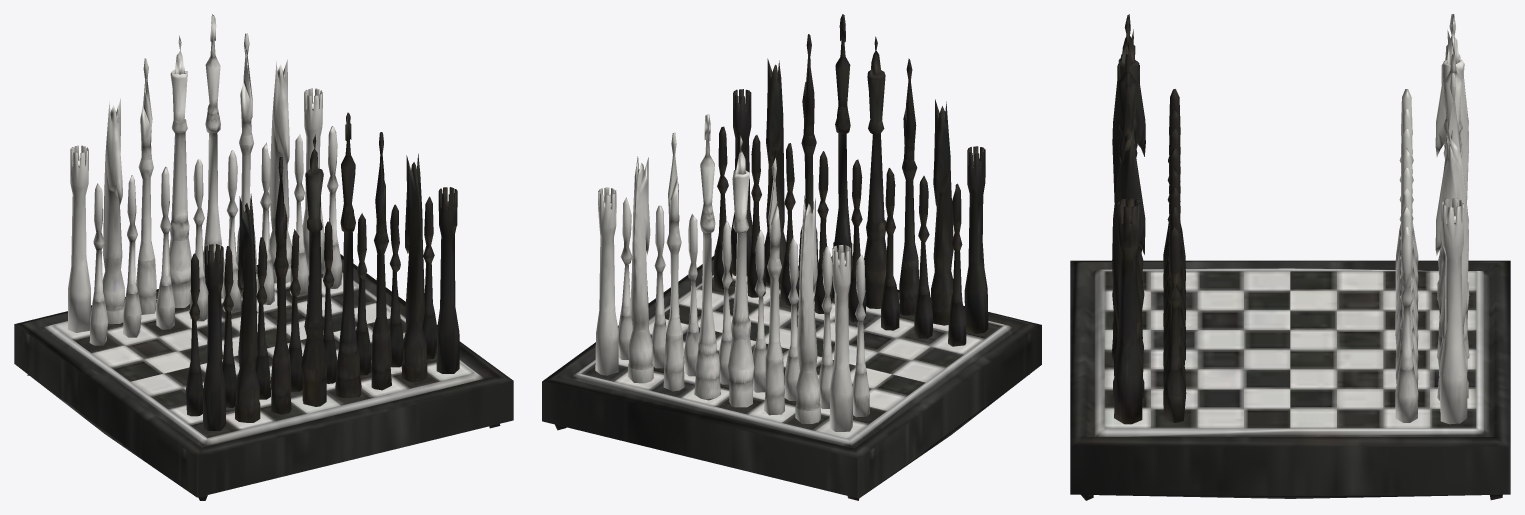
Rendered from ph-chess-set.glb.
3 views of the same model, side by side, from view 1: azimuth 30°, elevation 25°; view 2: azimuth 150°, elevation 25°; view 3: azimuth 270°, elevation 25° (orthographic). The views are drawn at different scales.
Visible parts, largest first — view 1: board, piece_rook_black_01, piece_rook_white_01, piece_king_black, piece_king_white; view 2: board, piece_rook_white_01, piece_rook_black_01, piece_king_white, piece_king_black; view 3: board, piece_rook_white_01, piece_rook_black_01, piece_king_black, piece_king_white.
Part boxes in pixels (<box>): board: <box>14,254,513,500</box>; piece_rook_black_01: <box>185,132,459,430</box>; piece_rook_white_01: <box>68,33,341,345</box>; piece_king_black: <box>335,112,361,398</box>; piece_king_white: <box>203,14,225,298</box>; board: <box>542,256,1041,500</box>; piece_rook_white_01: <box>595,132,869,431</box>; piece_rook_black_01: <box>713,34,988,346</box>; piece_king_white: <box>694,114,720,400</box>; piece_king_black: <box>831,14,852,298</box>; board: <box>1070,260,1510,500</box>; piece_rook_white_01: <box>1395,14,1469,424</box>; piece_rook_black_01: <box>1112,14,1186,424</box>; piece_king_black: <box>1111,20,1143,359</box>; piece_king_white: <box>1437,20,1469,358</box>.
Size of the model in its own units: 0.998 by 0.998 by 0.991.
Materials: 3 (3 with a texture image).
